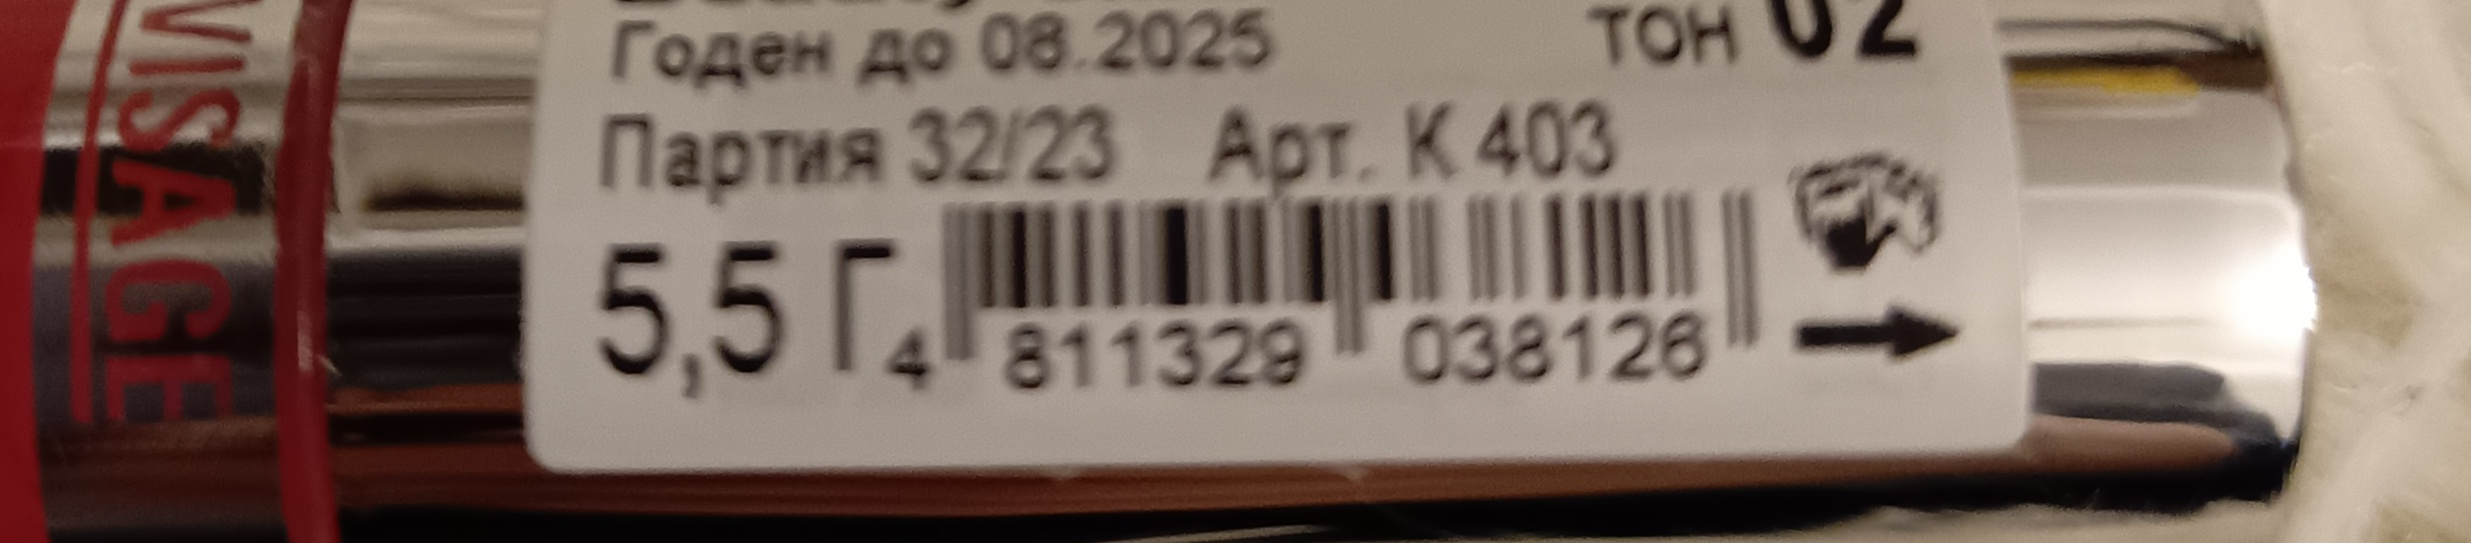1d: (936, 176, 1774, 364)
